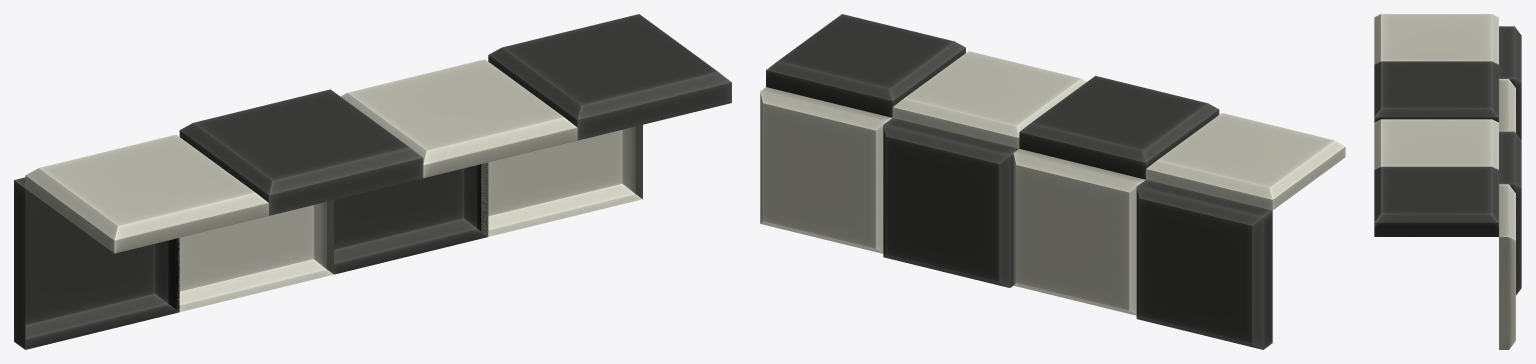
File: Tile_Mosaic_Terr_Middle_Final_002.fbx
3 renders of one model, left to right at view 1: azimuth 30°, elevation 25°; view 2: azimuth 150°, elevation 25°; view 3: azimuth 270°, elevation 25°, orthographic. The views are drawn at different scales.
Parts seen in each view (by area): view 1: Tile_Mosaic_Terr_Center_005; view 2: Tile_Mosaic_Terr_Center_005; view 3: Tile_Mosaic_Terr_Center_005.
Boxes of the visible parts, x1=… form: Tile_Mosaic_Terr_Center_005: x1=14, y1=14, x2=731, y2=349; Tile_Mosaic_Terr_Center_005: x1=760, y1=14, x2=1345, y2=349; Tile_Mosaic_Terr_Center_005: x1=1374, y1=14, x2=1521, y2=349.
Bounding box in the file's own units: 100 × 29.55 × 29.55.
